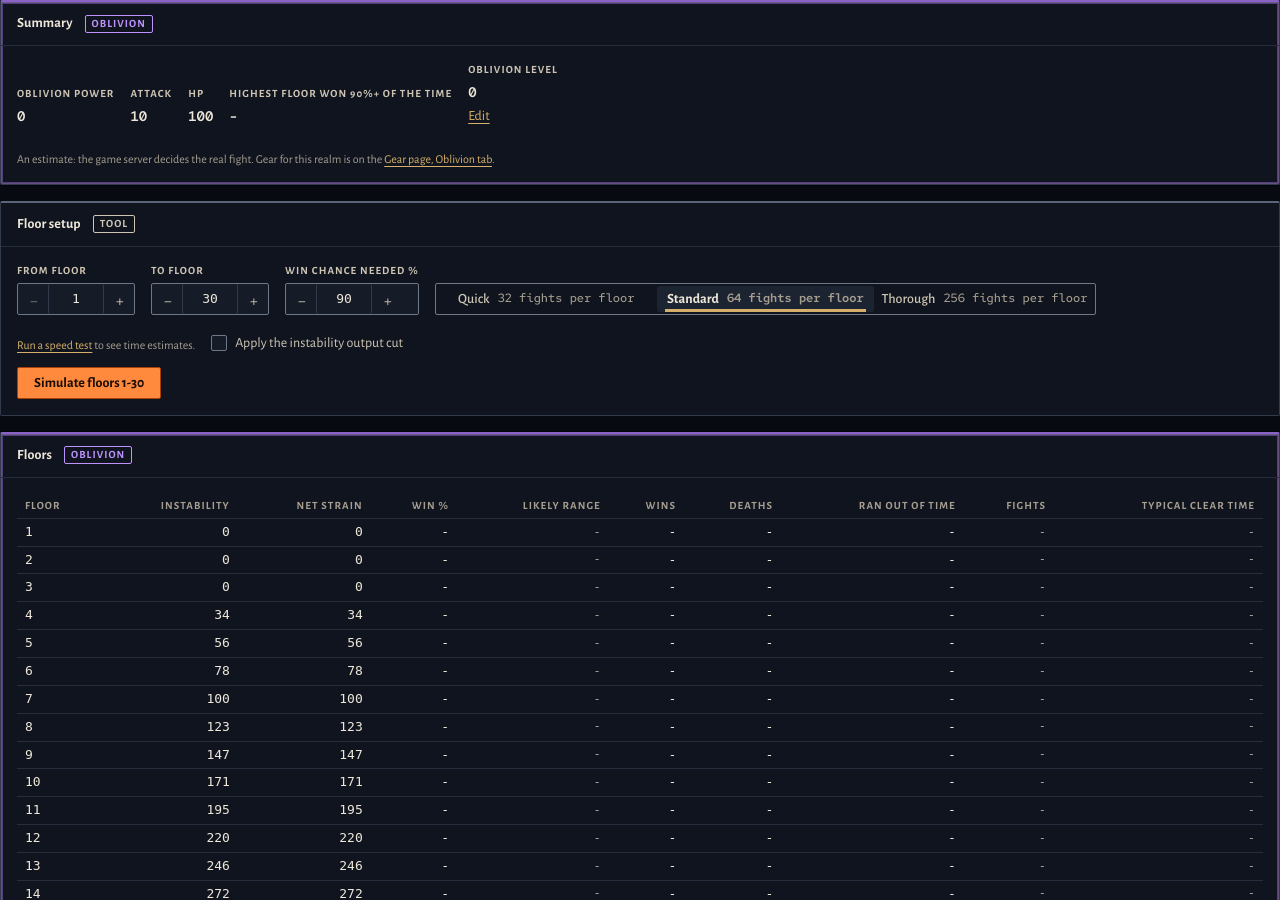
Scenario: cancel keeps the floors finished so far and Resume runs the scan again to the end
Click the button "Simulate floors 1-30" at (89, 383), box [17,367,161,399]
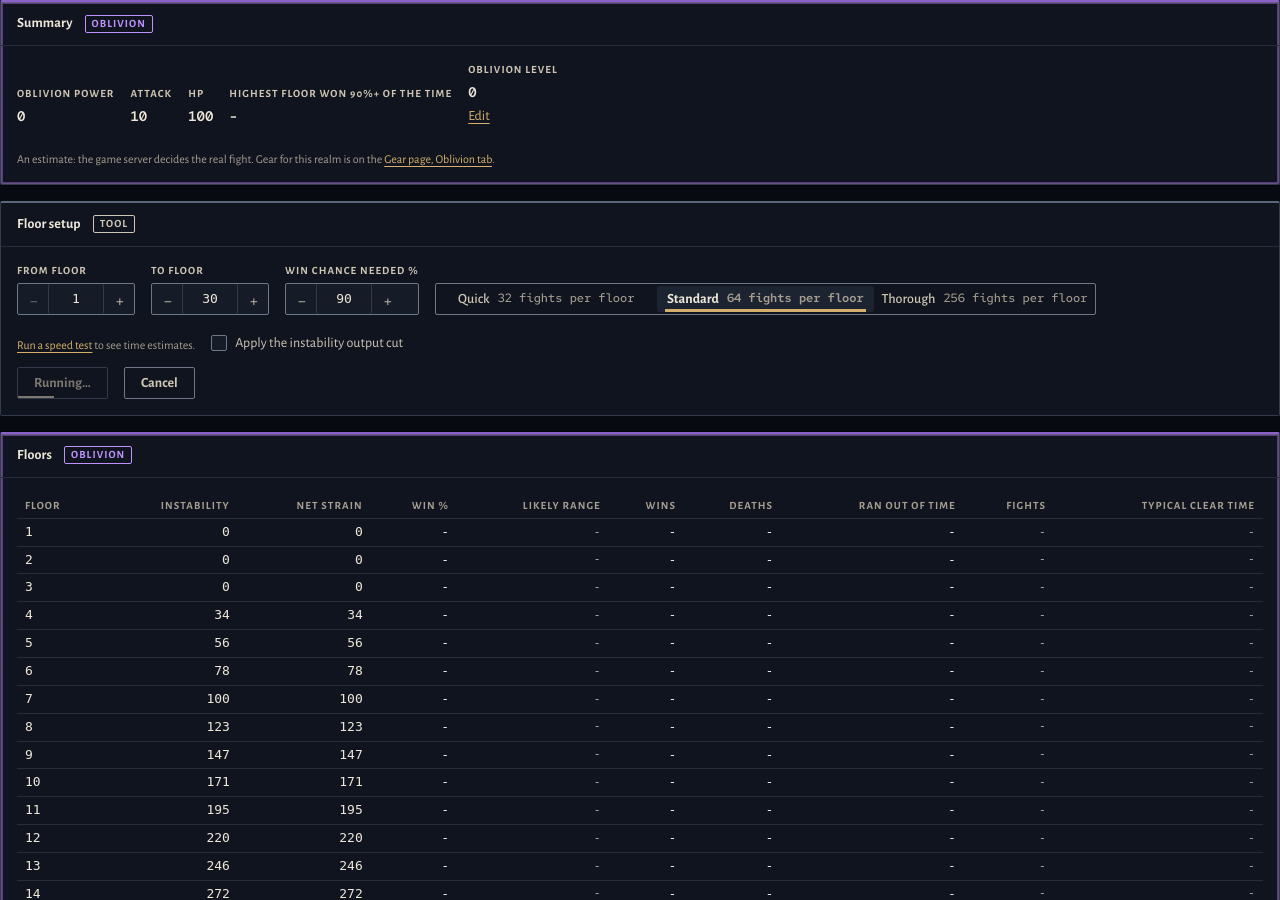
Click the button "Cancel" at (159, 383), box [124,367,195,399]
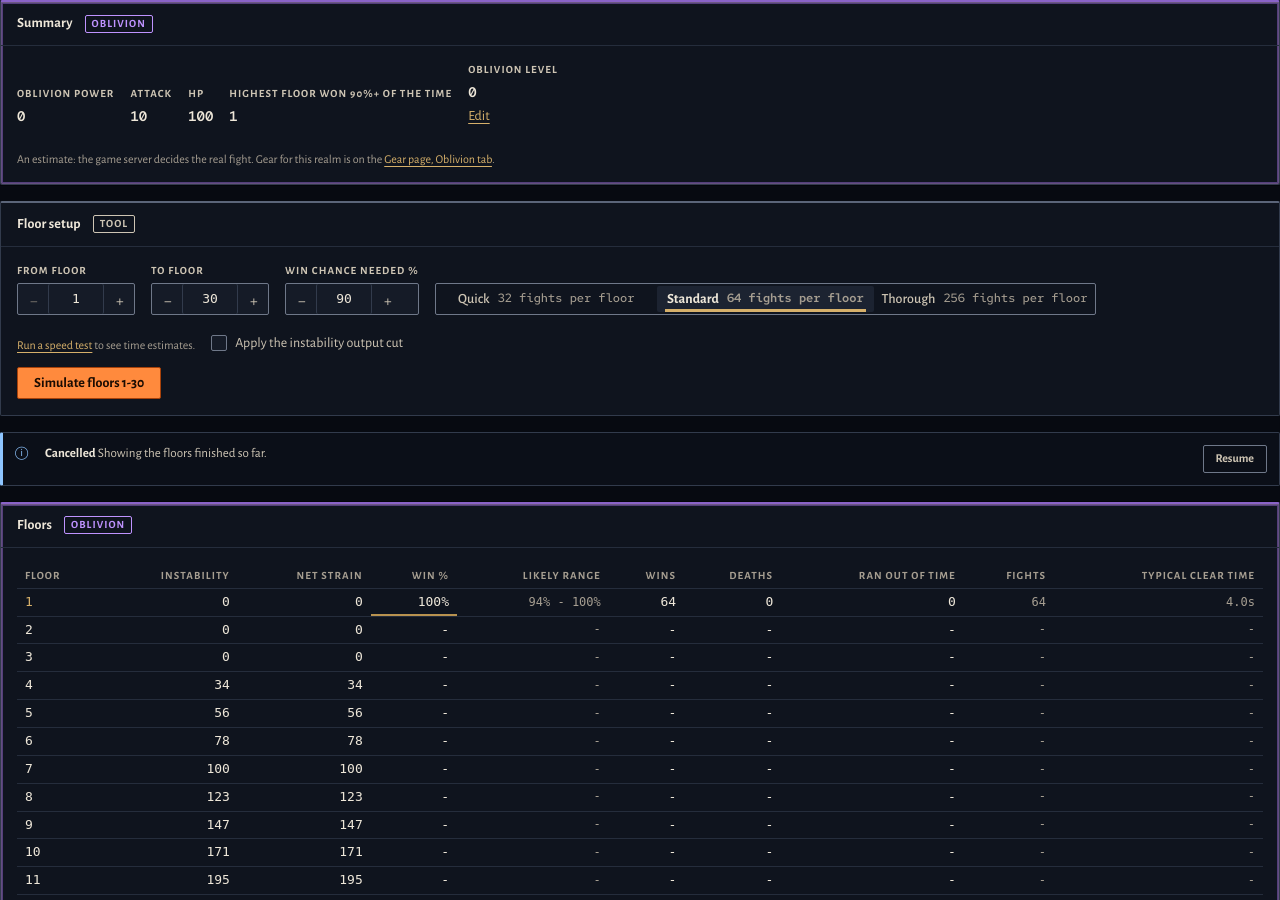
Expected: the text "30" is not shown
Result: the text "Showing the floors finished so far" is shown at [98,447,267,460]
Result: the row "1 0 0 100% 94% - 100% 64 0 0 64 4.0s" is shown at [17,588,1263,616]
Click the button "Resume" at (1235, 459), box [1202,445,1267,473]
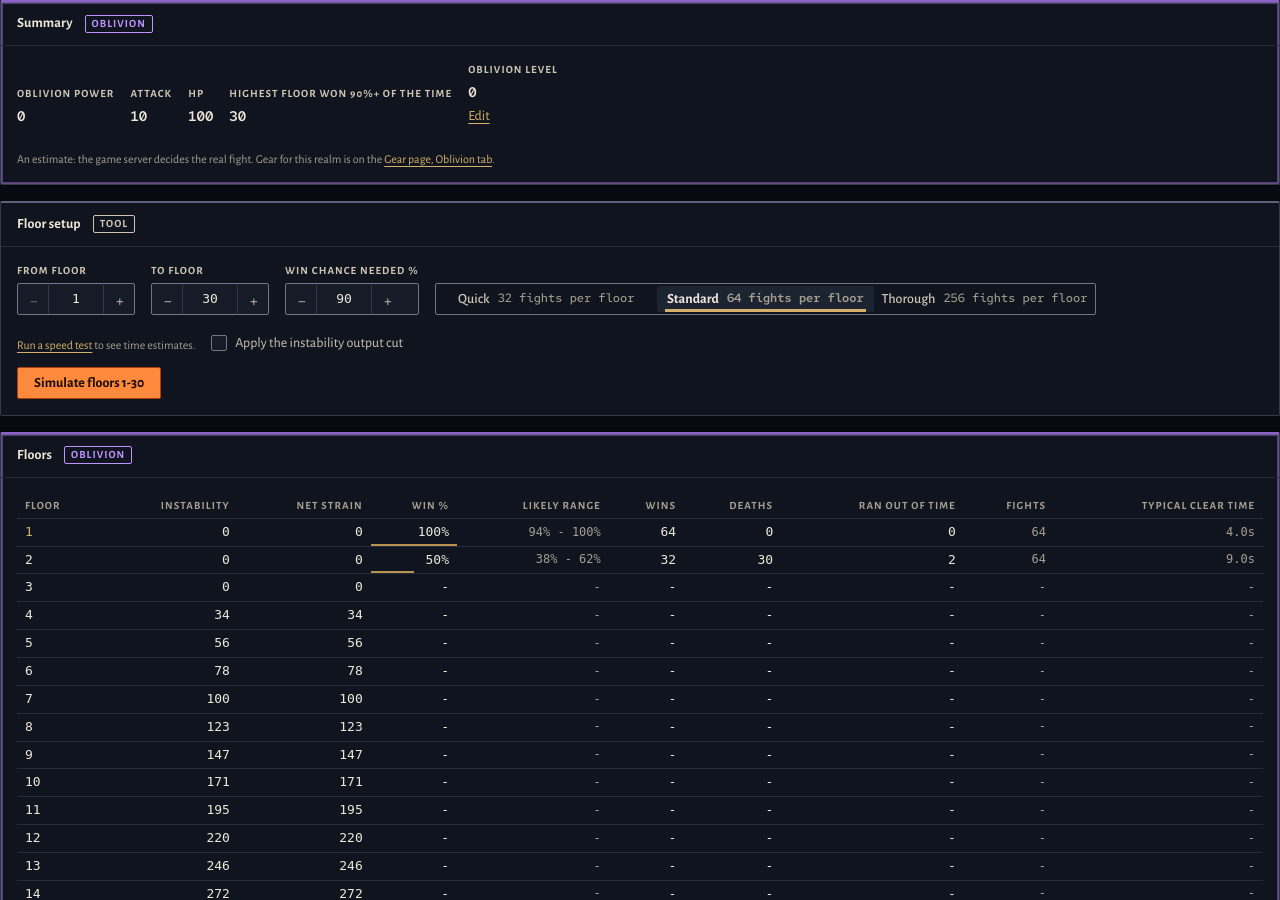
Result: the row "2 0 0 50% 38% - 62% 32 30 2 64 9.0s" is shown at [17,546,1263,574]
Result: the text "Showing the floors finished so far" is gone
